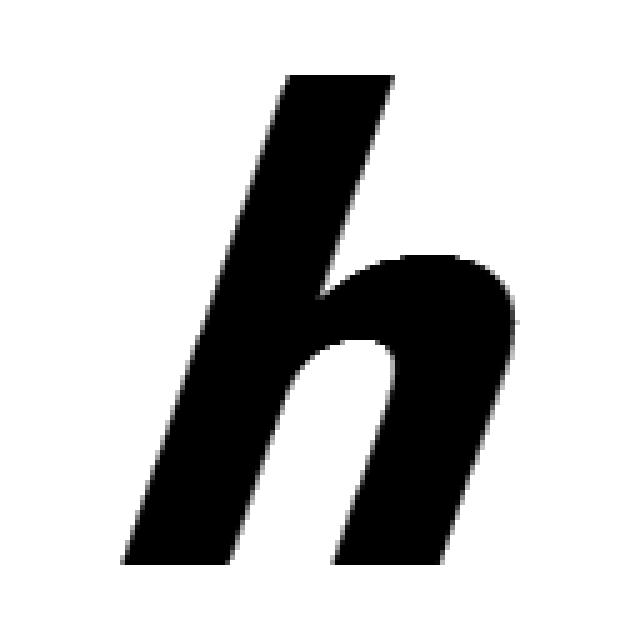H: (120, 75, 515, 570)
